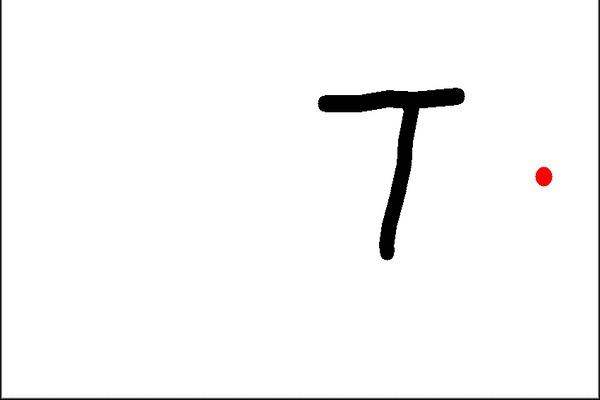T: (299, 75, 467, 265)
